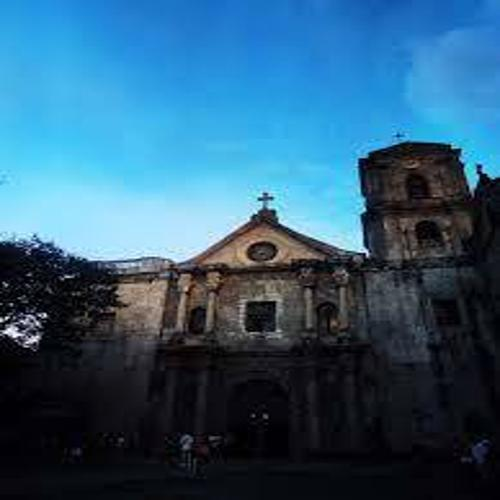San Agustin Church: (171, 124, 495, 482)
